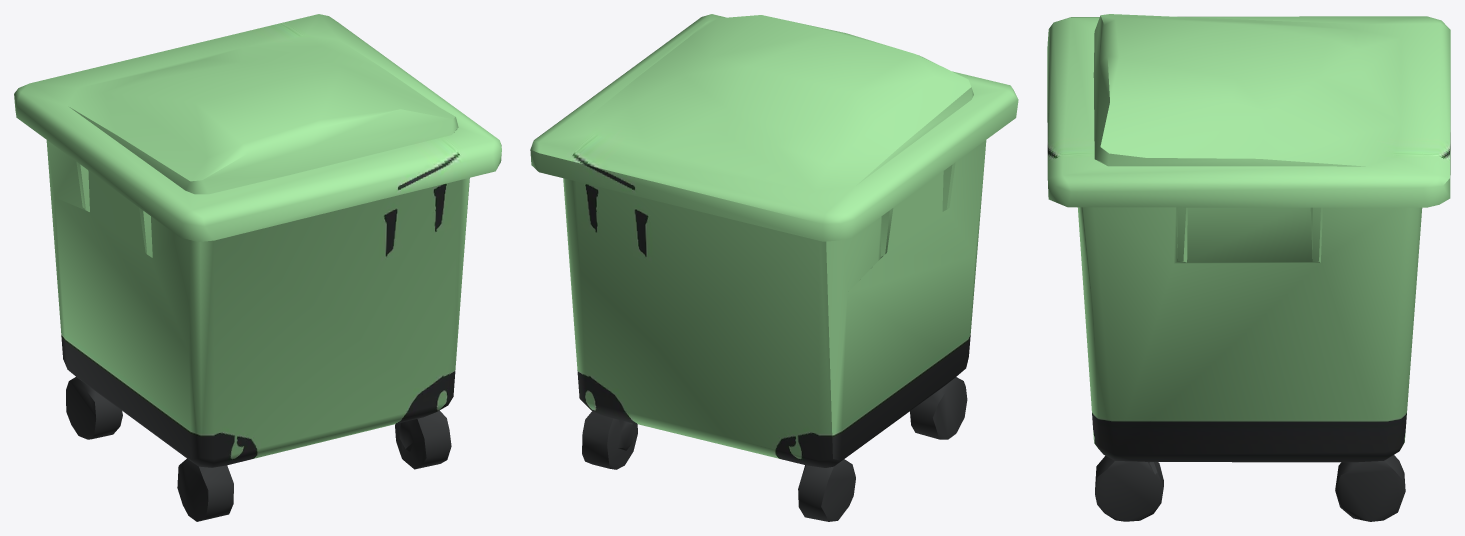
3 renders of one model, left to right at view 1: azimuth 30°, elevation 25°; view 2: azimuth 150°, elevation 25°; view 3: azimuth 270°, elevation 25°, orthographic. The views are drawn at different scales.
Visible parts, largest first — view 1: Decor_dumpster_a; view 2: Decor_dumpster_a; view 3: Decor_dumpster_a.
Boxes of the visible parts, x1=… form: Decor_dumpster_a: x1=14, y1=14, x2=501, y2=521; Decor_dumpster_a: x1=530, y1=14, x2=1018, y2=521; Decor_dumpster_a: x1=1047, y1=14, x2=1450, y2=521.
Bounding box in the file's own units: 1.17 × 1.3 × 1.18.
Materials: 1 (1 with a texture image).
